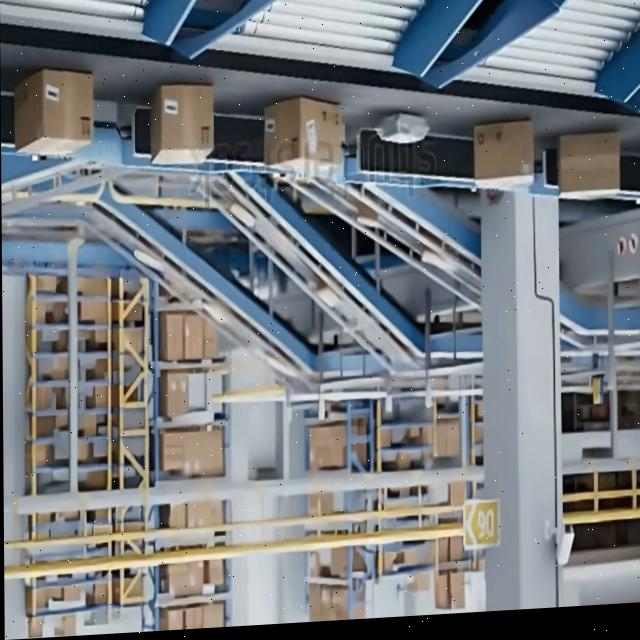product 1: (263, 94, 344, 179), (150, 81, 215, 169), (473, 119, 536, 193)
product 2: (374, 109, 430, 148)
